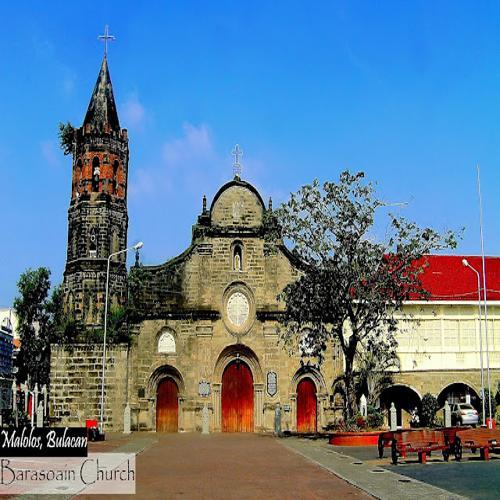Barasoain Church: (44, 21, 349, 438)
